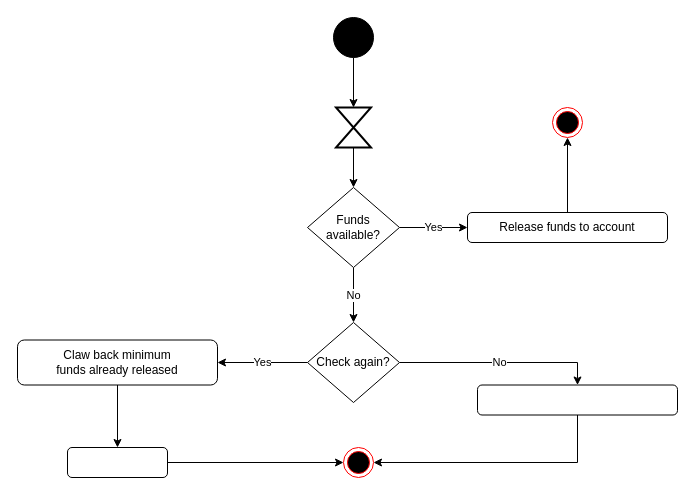
This 695x495 diagram has some shape labels left out. The shapes that lost their labels are listed below. From the top down, each one's centre as x and y in pixels, then its label:
At point 577,399: "Schedule funds check".
At point 117,462: "Error".
